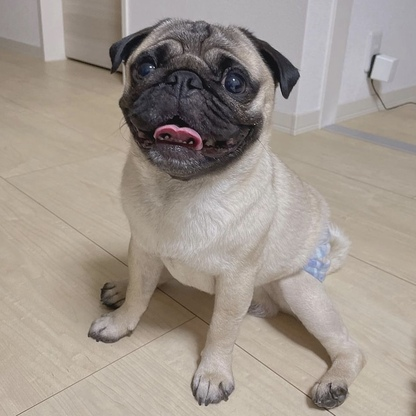Pug: (85, 15, 370, 412)
